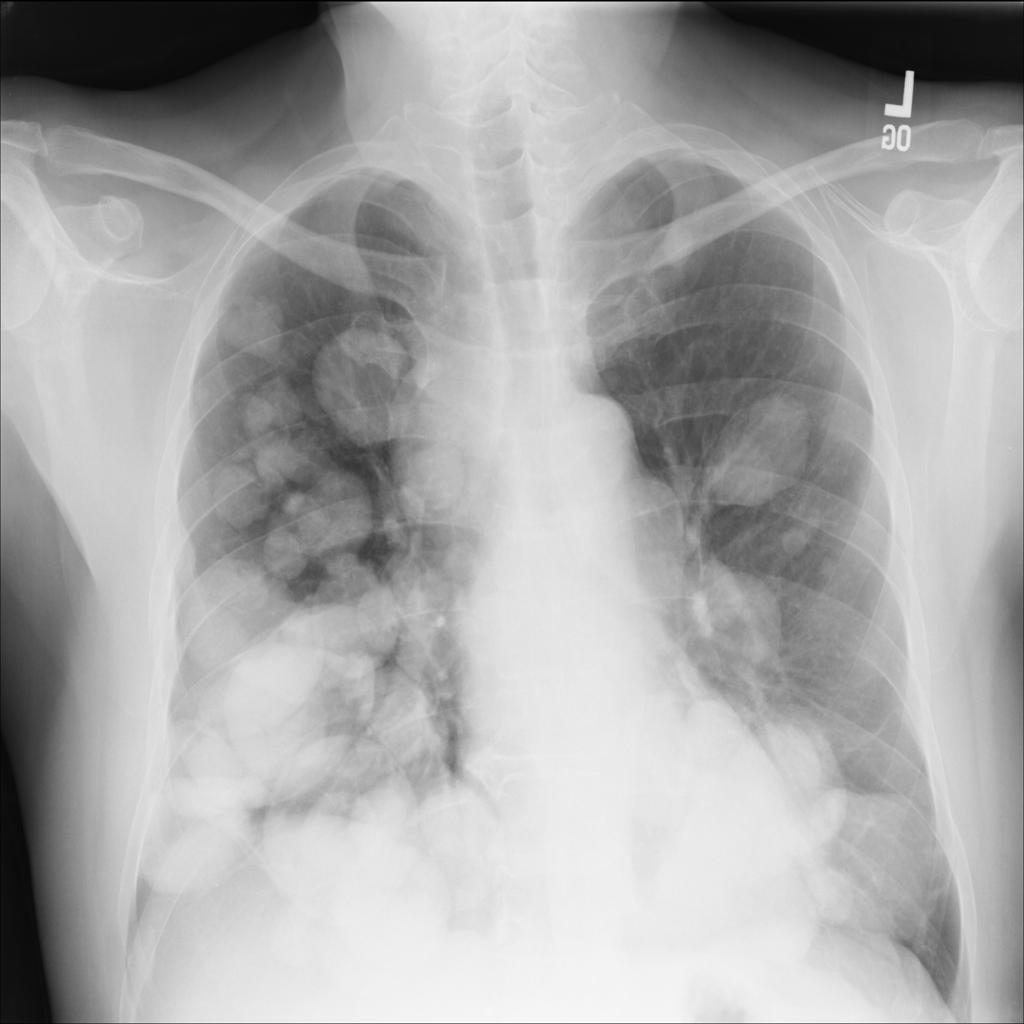nodule: (269, 729, 432, 914), (195, 631, 349, 789), (665, 534, 793, 715), (805, 799, 945, 949), (695, 371, 824, 516), (314, 305, 434, 455), (128, 782, 252, 903), (281, 561, 412, 674), (348, 652, 452, 781), (165, 574, 283, 685), (742, 699, 844, 824), (213, 285, 294, 365), (678, 685, 756, 766), (399, 435, 474, 519), (298, 475, 381, 549), (234, 435, 311, 513), (349, 775, 423, 851), (801, 854, 871, 930), (204, 458, 274, 533), (245, 523, 318, 593), (646, 204, 713, 280), (769, 502, 835, 578), (236, 370, 305, 442), (804, 542, 852, 597)
